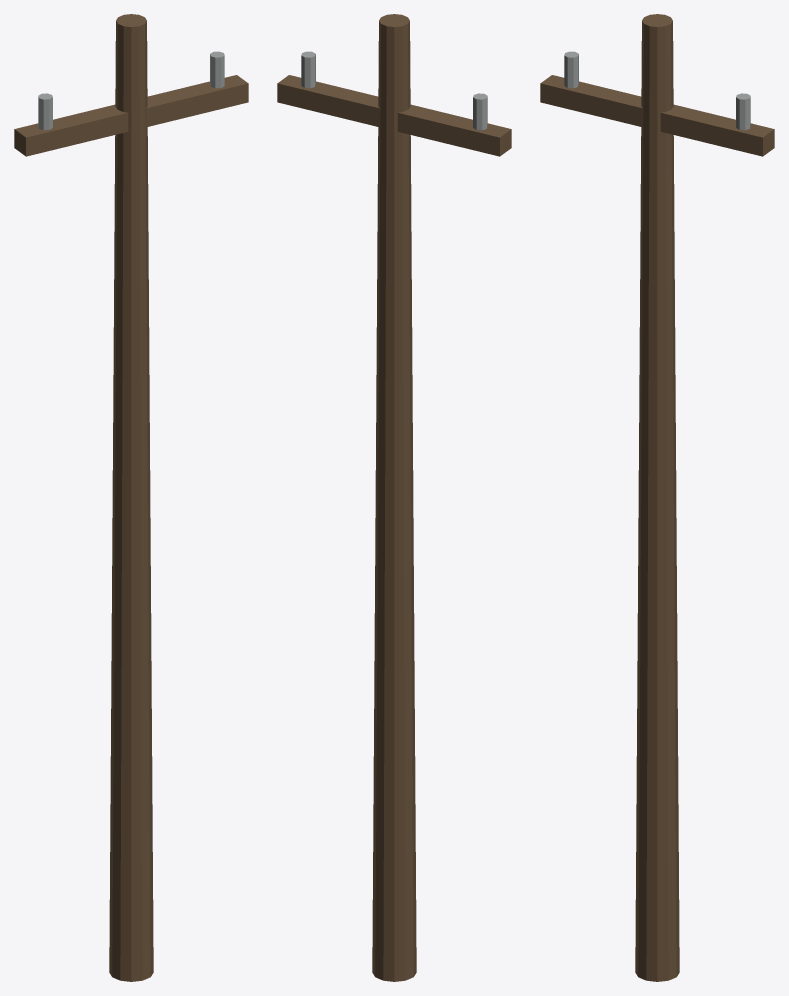
File: utility-pole-crossarm.glb
3 renders of one model, left to right at view 1: azimuth 30°, elevation 25°; view 2: azimuth 150°, elevation 25°; view 3: azimuth 330°, elevation 25°, orthographic.
Visible parts, largest first — view 1: utility-pole-crossarm; view 2: utility-pole-crossarm; view 3: utility-pole-crossarm.
Part boxes in pixels (bbox=[...]): utility-pole-crossarm: bbox=[14, 14, 248, 981]; utility-pole-crossarm: bbox=[277, 14, 511, 981]; utility-pole-crossarm: bbox=[540, 14, 774, 981].
Bounding box in the file's own units: 2.2 × 9 × 0.38.
